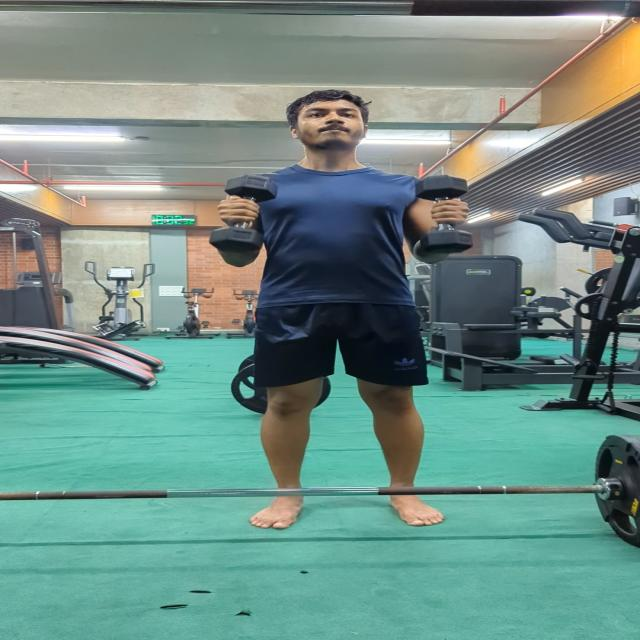Normal_DumbbellBicepCurls: (192, 83, 482, 532)
